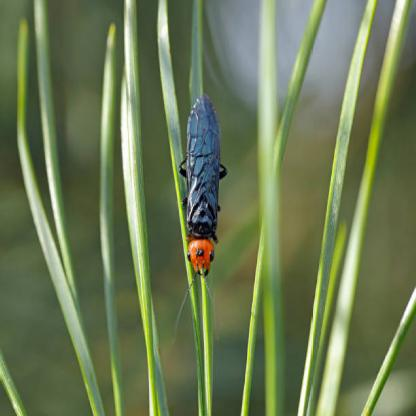sawfly: (169, 79, 231, 323)
